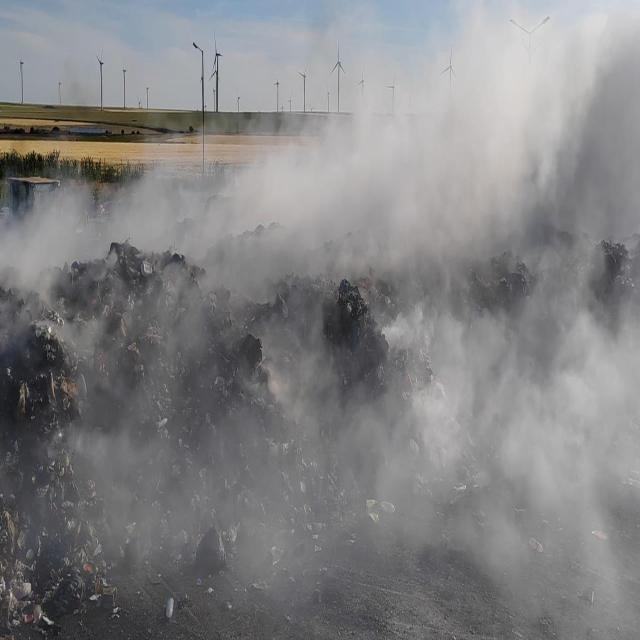Smoke: (23, 52, 640, 362), (80, 350, 640, 640)
